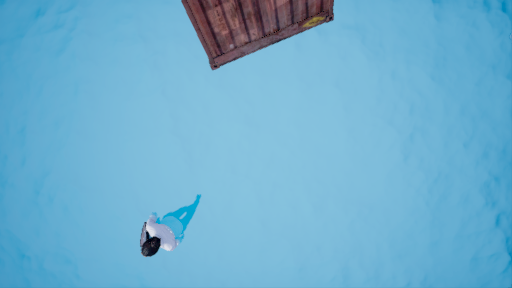person: (135, 193, 208, 265)
